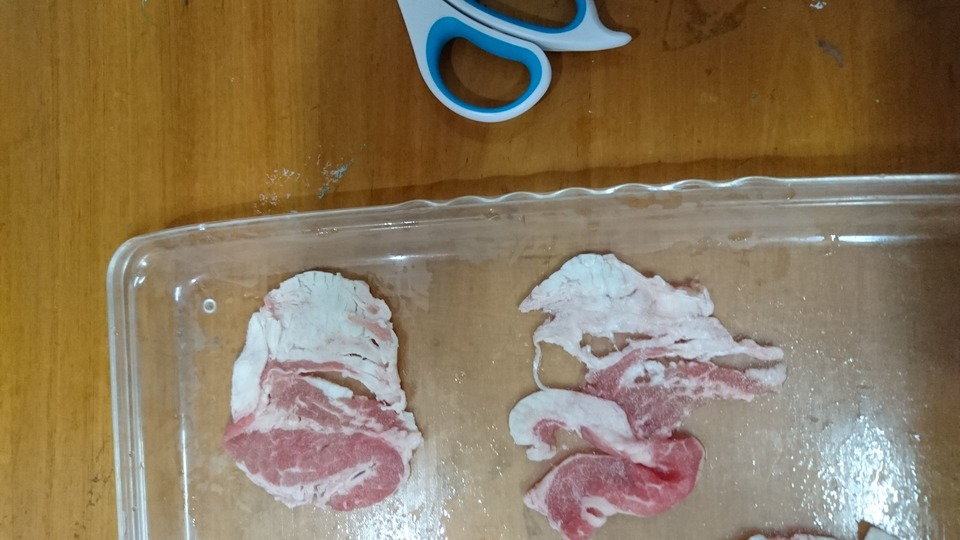restructured meat: (509, 243, 785, 540), (230, 266, 426, 518)
